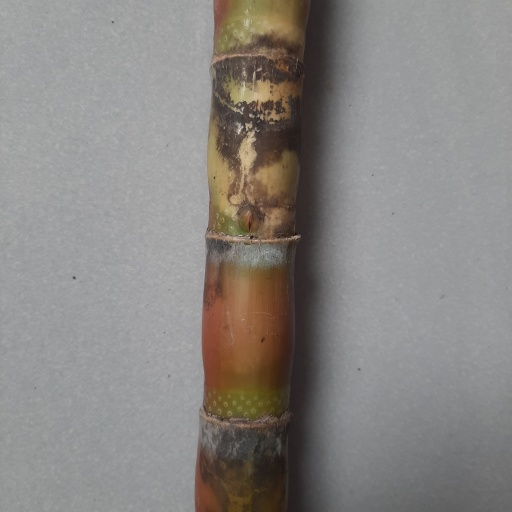Bud: (237, 204, 263, 238)
